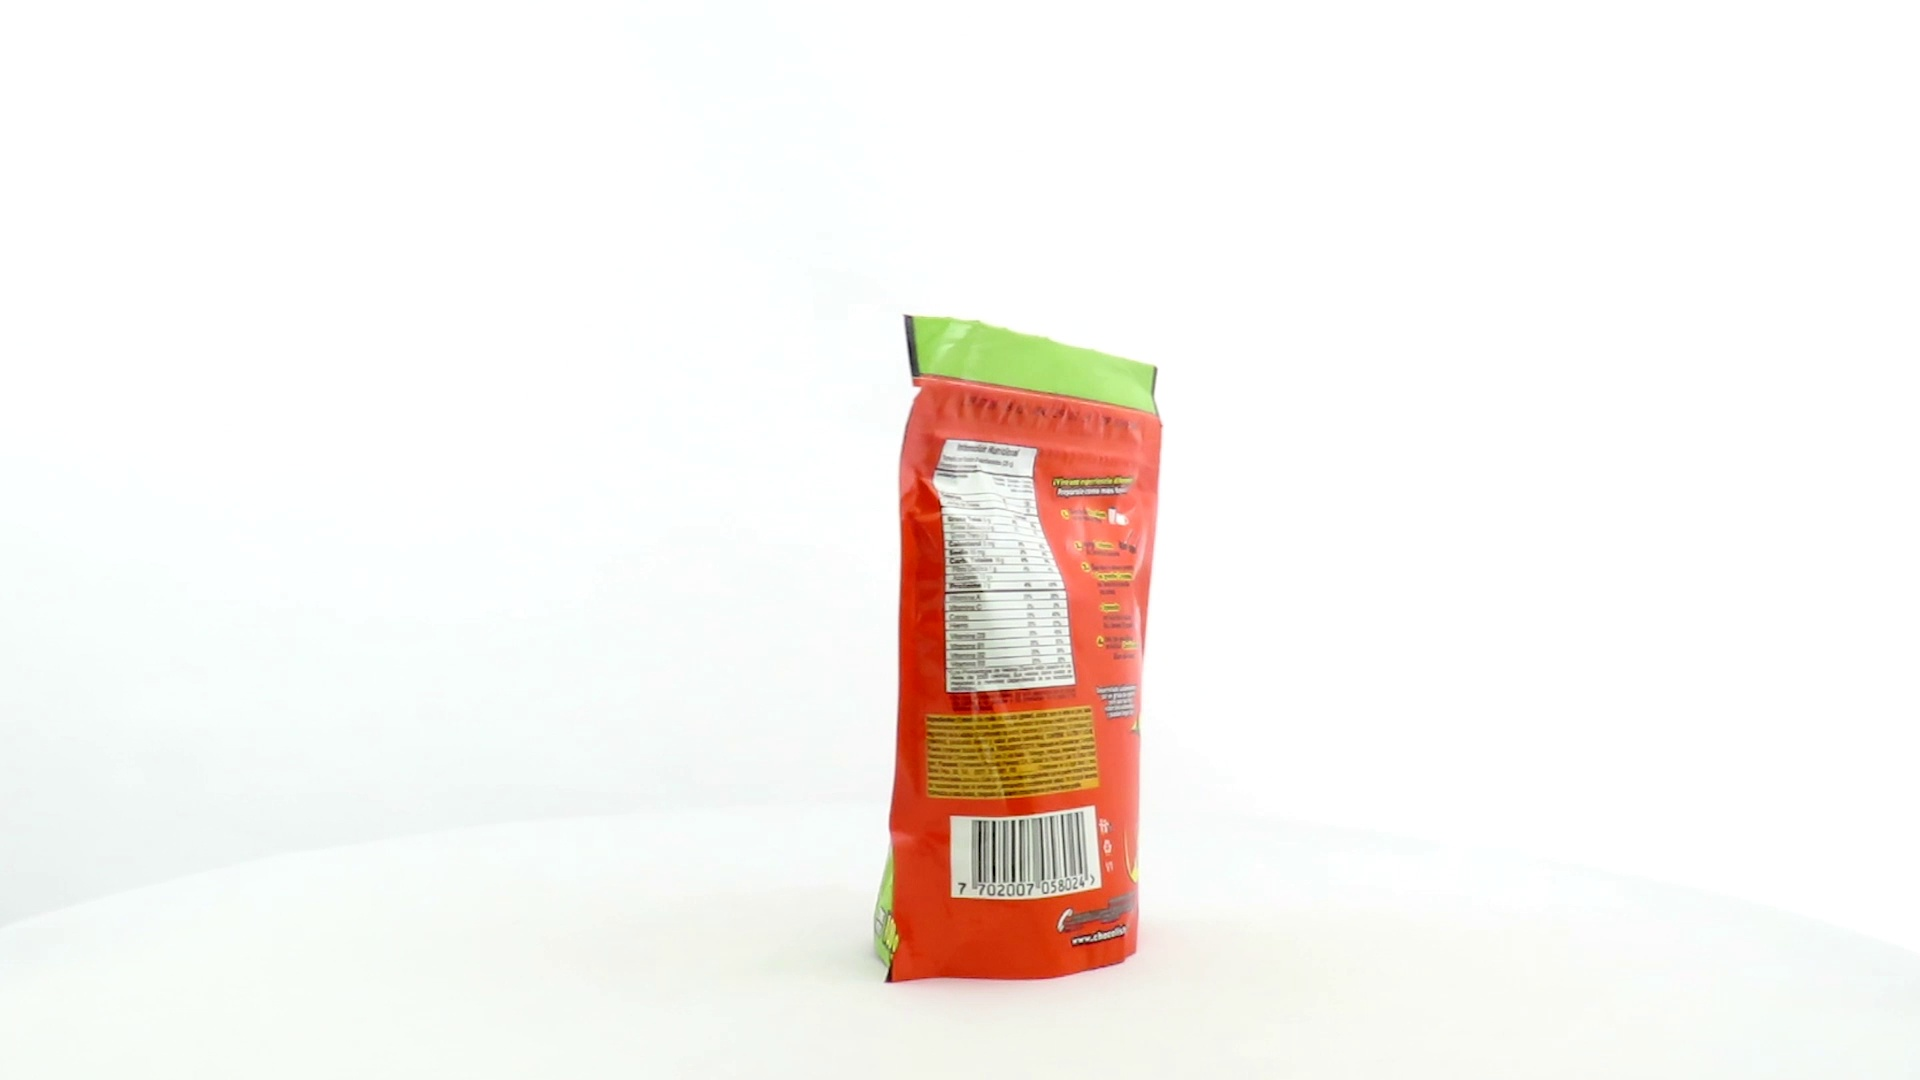COL0170102DYP10000: (868, 309, 1168, 989)
